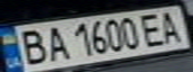0: (118, 13, 142, 51), (103, 16, 127, 53)
1: (69, 19, 93, 57)
6: (87, 18, 109, 55)
A: (154, 8, 190, 44), (39, 24, 72, 62)
B: (12, 26, 51, 66)
E: (136, 11, 169, 47)
